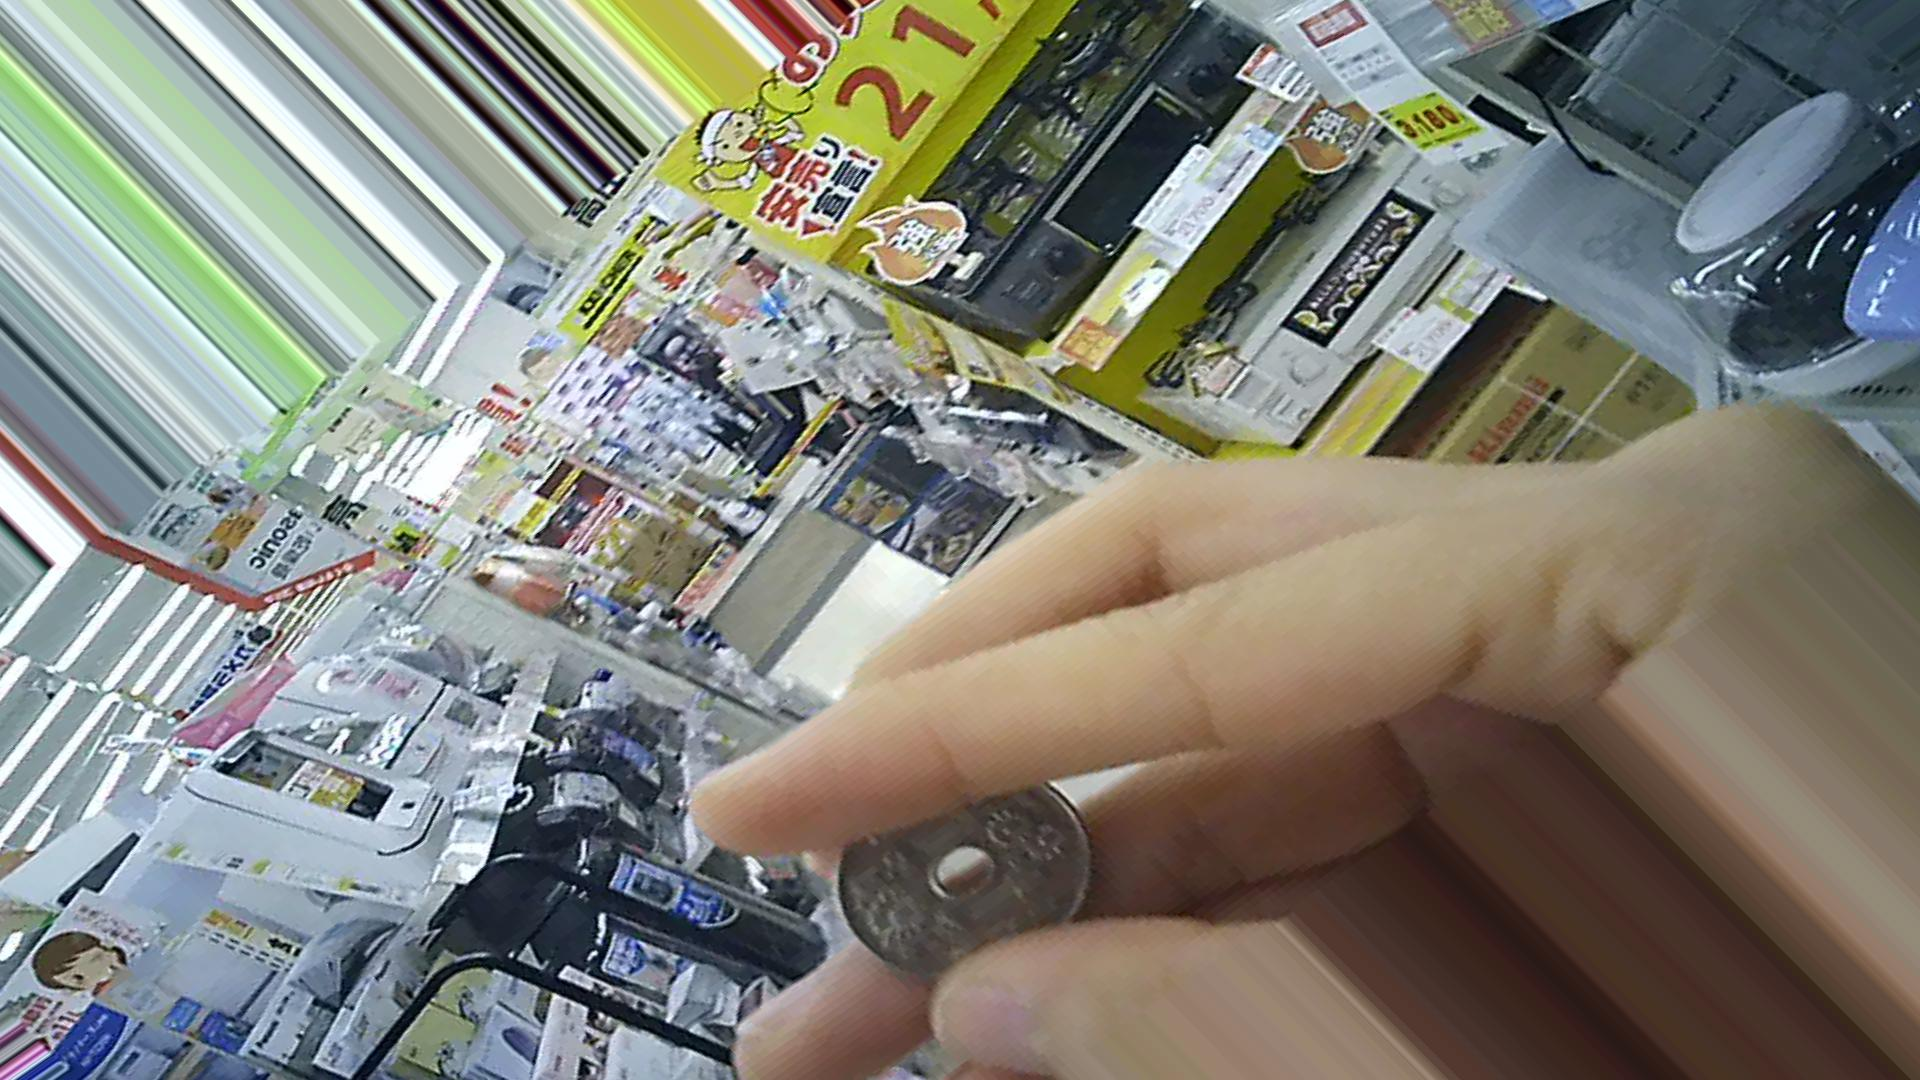50 Yen: (840, 765, 1089, 978)
